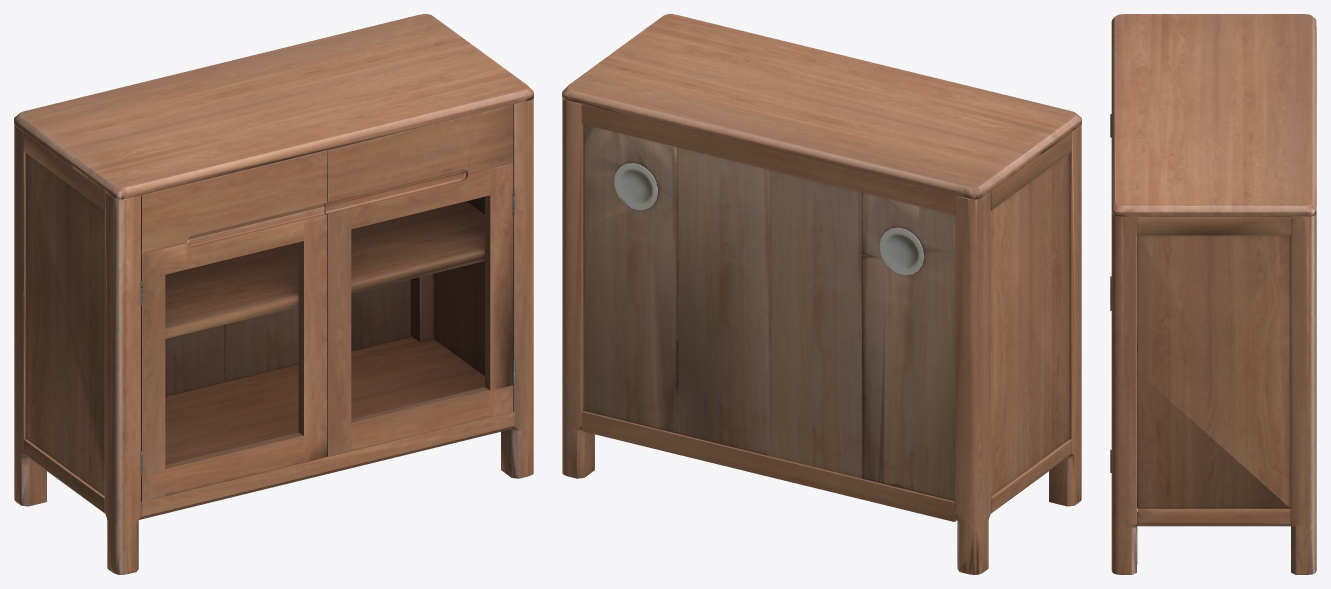
File: raw_model.obj
The picture shows the model from 3 angles, left to right: view 1: azimuth 30°, elevation 25°; view 2: azimuth 150°, elevation 25°; view 3: azimuth 270°, elevation 25°; orthographic projection. The views are drawn at different scales.
Visible parts, largest first — view 1: solid_005, solid_004, glass_001; view 2: solid_005, solid_004, solid_001; view 3: solid_005.
Boxes of the visible parts, x1,y1,x2,y2 form: solid_005: [14, 14, 533, 574]; solid_004: [165, 279, 410, 396]; glass_001: [165, 195, 489, 468]; solid_005: [562, 14, 1081, 574]; solid_004: [584, 124, 954, 501]; solid_001: [614, 163, 924, 275]; solid_005: [1111, 14, 1316, 574].
Size of the model in its own units: 0.9001 by 0.79 by 0.4019.
1 material, 1 textured.
